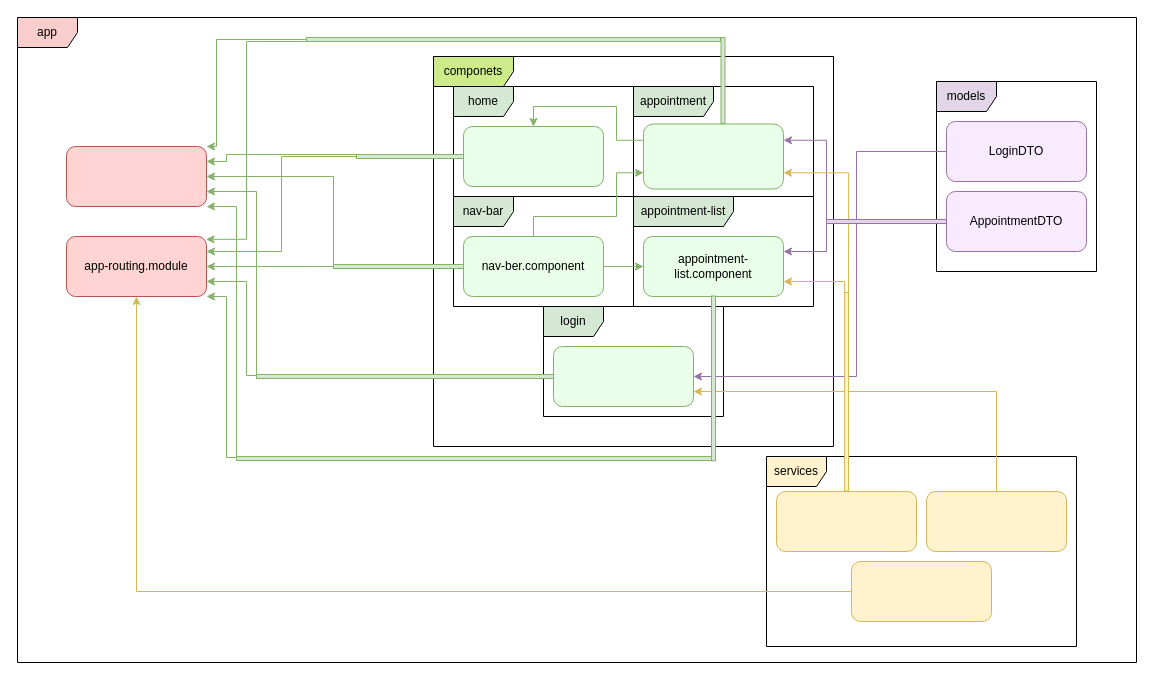
Some shapes in this 1154 by 680 pixel diagram are drawn without their labels. Each missing label, with the centre of its shape:
"app.module" goes at (136,176).
"appointment.component" goes at (713,156).
"appointments.service" goes at (846,521).
"auth-guard.service" goes at (921,591).
"home.component" goes at (533,156).
"login.component" goes at (623,376).
"login.service" goes at (996,521).
